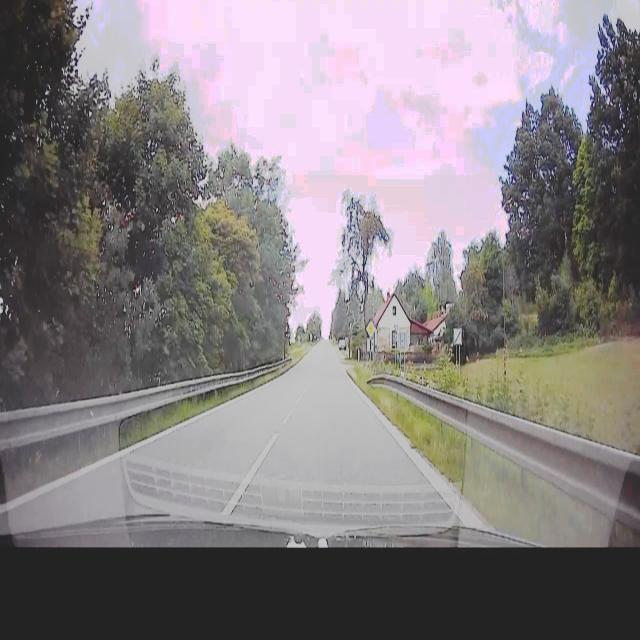Priority road: (364, 318, 376, 342)
